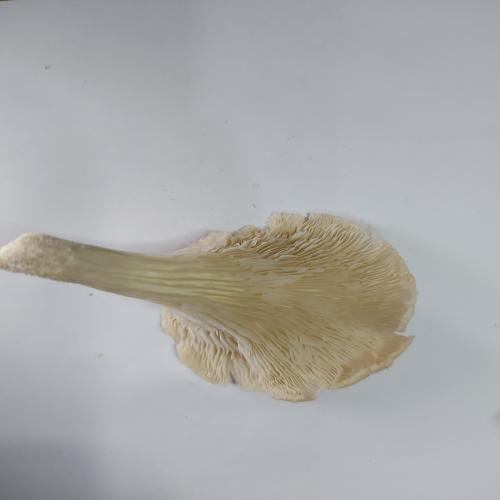Oyster Mushroom: (1, 210, 419, 403)
